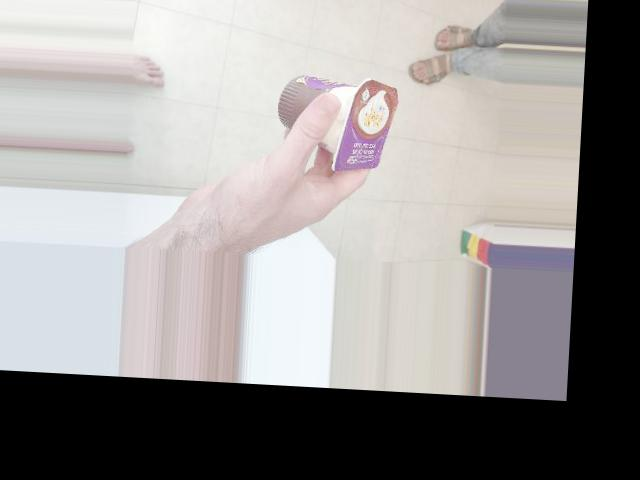milky: (315, 31, 410, 160)
